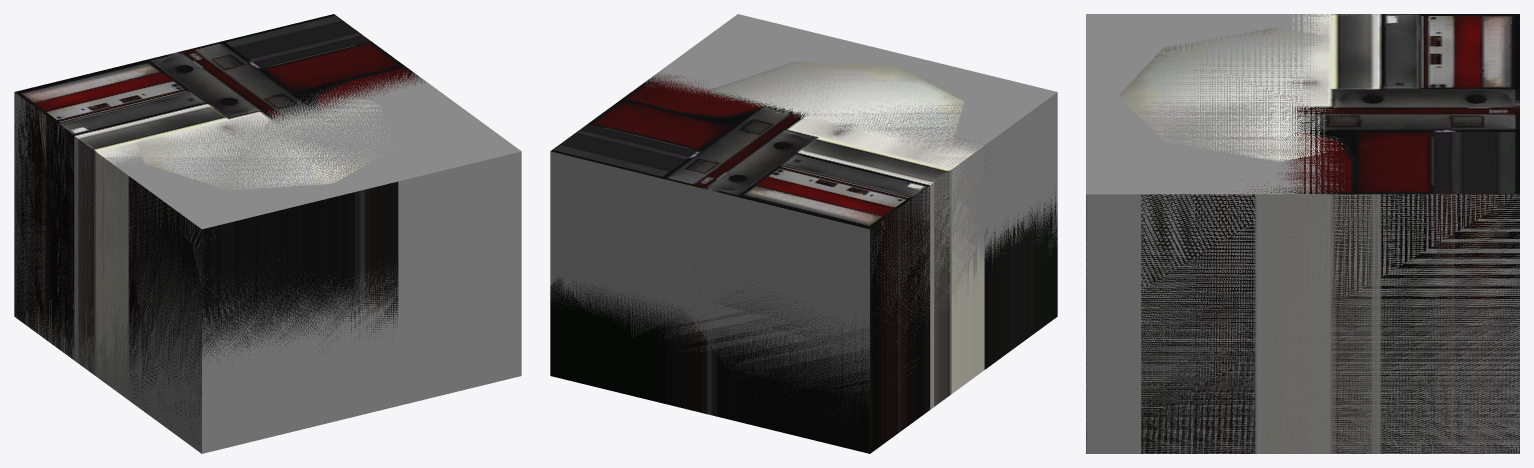
File: coffee_cup.FBX
3 views of the same model, side by side, from view 1: azimuth 30°, elevation 25°; view 2: azimuth 150°, elevation 25°; view 3: azimuth 270°, elevation 25° (orthographic). The views are drawn at different scales.
Visible parts, largest first — view 1: bounds, colbox-1, coffee_cup100; view 2: colbox-1, bounds, coffee_cup100; view 3: bounds, colbox-1, coffee_cup100.
Boxes of the visible parts, x1=… form: bounds: x1=14, y1=69, x2=521, y2=453; colbox-1: x1=14, y1=14, x2=425, y2=442; coffee_cup100: x1=137, y1=98, x2=390, y2=189; colbox-1: x1=550, y1=73, x2=1057, y2=453; bounds: x1=550, y1=14, x2=1057, y2=414; coffee_cup100: x1=711, y1=61, x2=963, y2=150; bounds: x1=1086, y1=14, x2=1519, y2=453; colbox-1: x1=1086, y1=14, x2=1519, y2=453; coffee_cup100: x1=1118, y1=27, x2=1342, y2=161.
Bounding box in the file's own units: 9.09 × 6.1 × 9.24.
